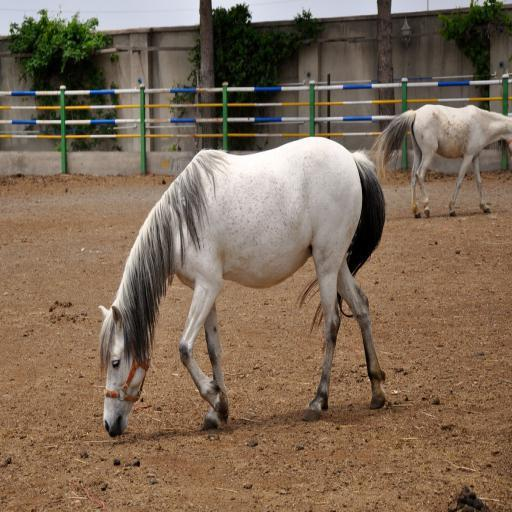horse: (96, 136, 388, 437), (369, 102, 512, 220)
